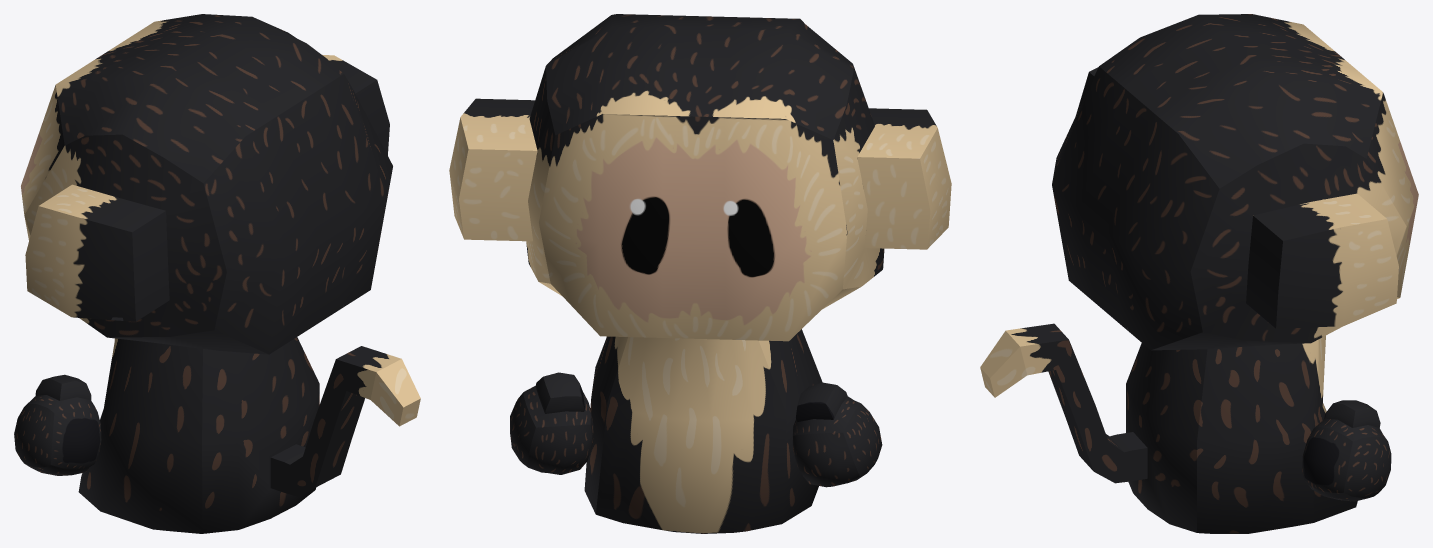
The model's file is Player1.fbx.
3 renders of one model, left to right at view 1: azimuth 30°, elevation 25°; view 2: azimuth 150°, elevation 25°; view 3: azimuth 270°, elevation 25°, orthographic. The views are drawn at different scales.
Parts seen in each view (by area): view 1: Player 1; view 2: Player 1; view 3: Player 1.
Part boxes in pixels (x1=…): Player 1: x1=14, y1=14, x2=420, y2=533; Player 1: x1=449, y1=14, x2=951, y2=533; Player 1: x1=980, y1=14, x2=1418, y2=533.
Size of the model in its own units: 55.32 by 58.97 by 51.44.
